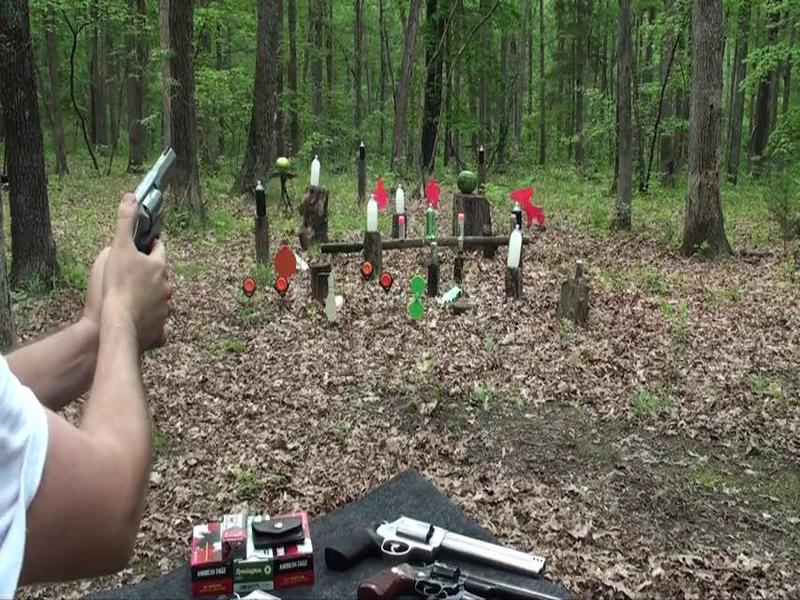Revolver: (121, 125, 181, 275)
